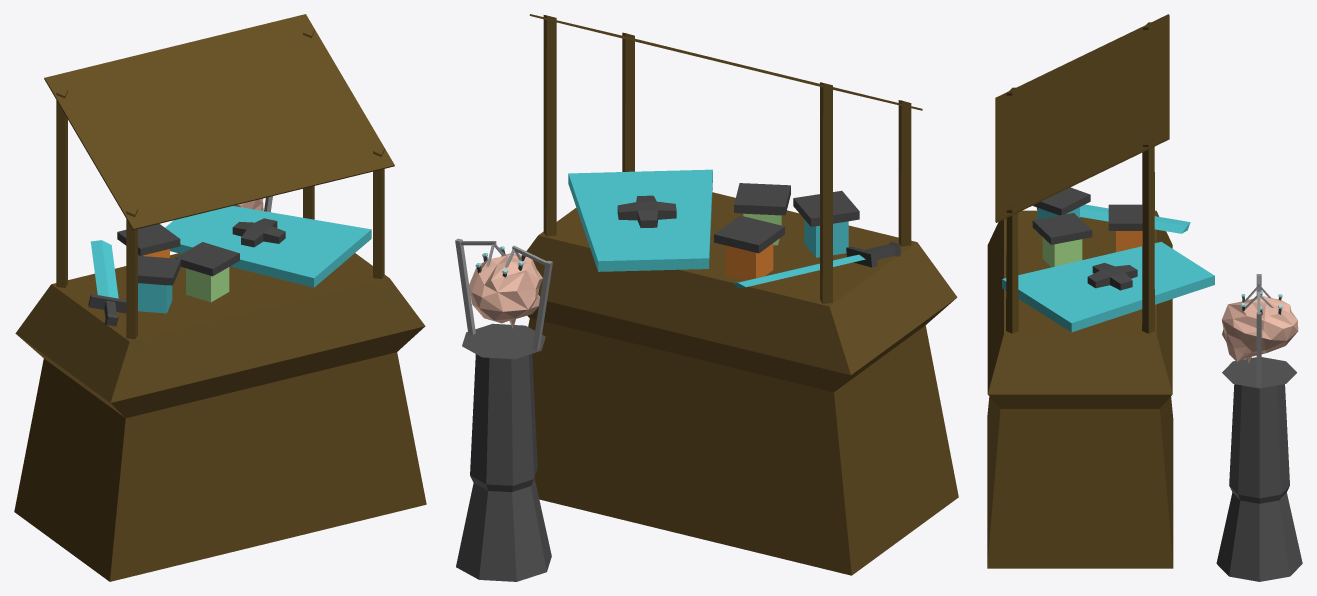
File: shop .fbx
The picture shows the model from 3 angles, left to right: view 1: azimuth 30°, elevation 25°; view 2: azimuth 150°, elevation 25°; view 3: azimuth 270°, elevation 25°; orthographic projection. The views are drawn at different scales.
Visible parts, largest first — view 1: Cube.001; view 2: Cube.001; view 3: Cube.001.
Part boxes in pixels (left/top/right/bottom): Cube.001: left=14, top=14, right=426, bottom=581; Cube.001: left=455, top=14, right=958, bottom=581; Cube.001: left=987, top=14, right=1302, bottom=581.
Bounding box in the file's own units: 1.3 × 1.77 × 1.16.
